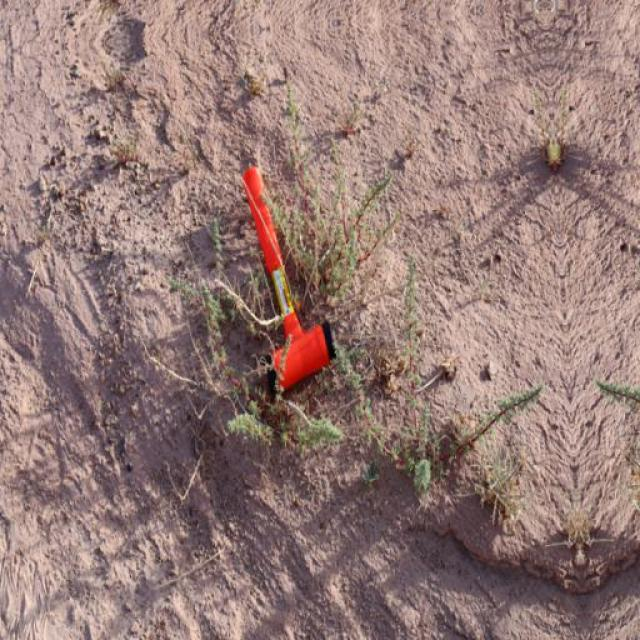mallet: (238, 164, 336, 392)
